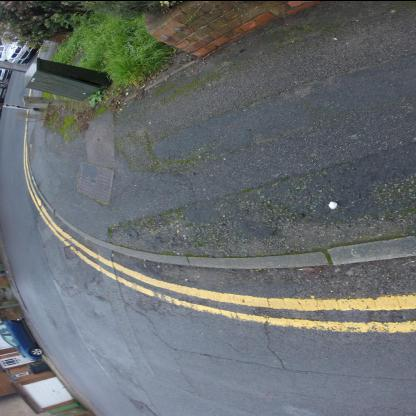metal: (328, 200, 338, 208)
